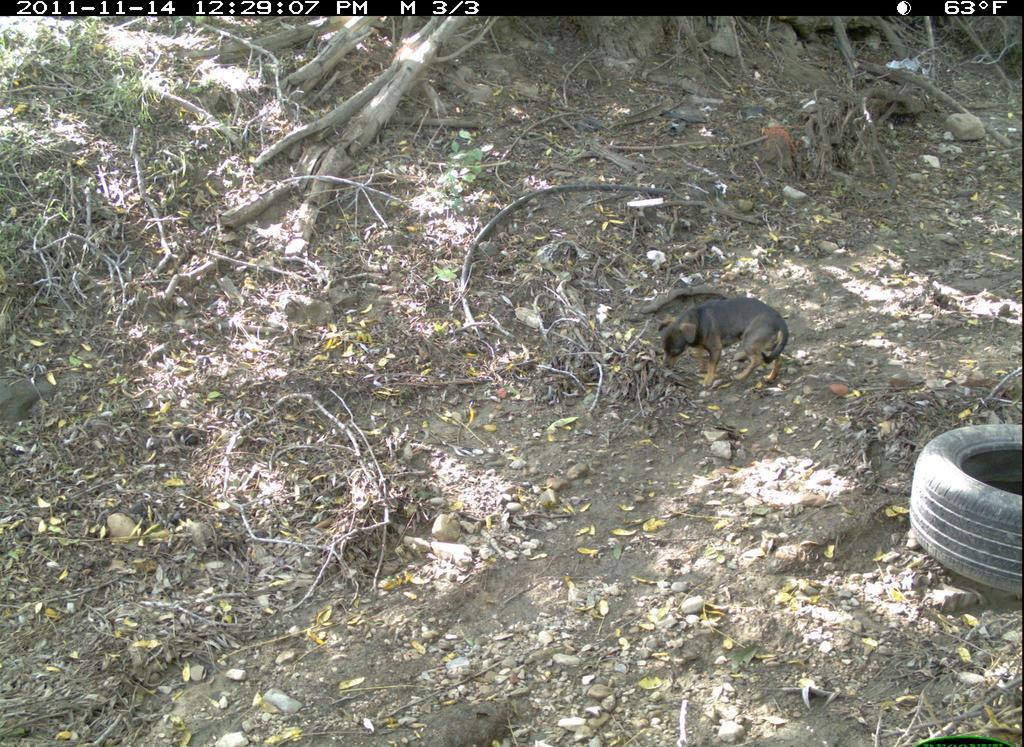dog: (660, 295, 792, 408)
